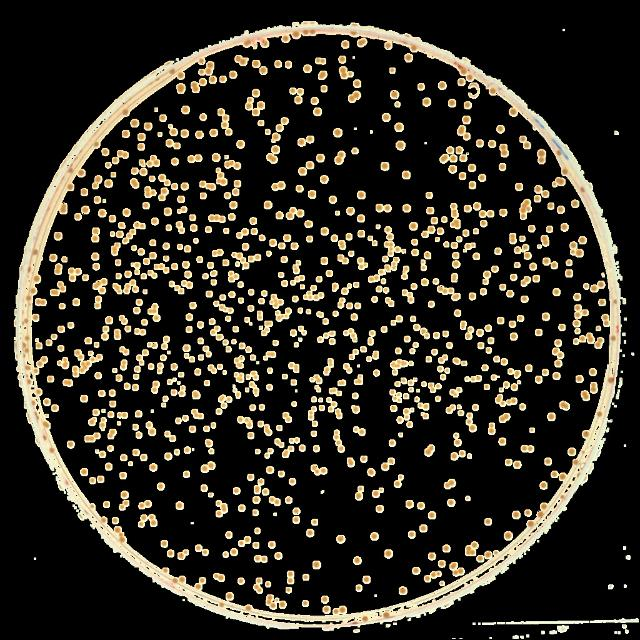colony: (424, 444, 436, 458), (348, 91, 362, 102), (146, 156, 160, 167), (235, 54, 247, 66), (339, 66, 348, 80), (190, 81, 200, 93), (266, 153, 278, 163), (318, 70, 328, 80), (398, 586, 408, 596), (595, 338, 605, 348), (446, 404, 456, 414), (394, 122, 404, 132), (216, 178, 228, 186), (60, 202, 68, 214), (112, 244, 120, 256), (35, 298, 47, 306), (264, 424, 272, 436), (177, 84, 186, 94), (333, 128, 342, 138), (130, 119, 140, 128), (560, 402, 570, 411), (500, 413, 510, 422), (508, 109, 518, 118), (581, 391, 589, 402), (316, 57, 326, 65), (118, 150, 128, 158), (130, 178, 138, 188), (272, 133, 280, 143), (53, 232, 63, 240), (55, 264, 63, 274), (63, 379, 73, 387), (85, 435, 95, 443), (306, 528, 314, 538), (292, 507, 302, 515), (336, 535, 346, 543), (590, 383, 598, 393), (588, 368, 598, 376), (354, 493, 364, 501), (367, 468, 375, 478), (515, 182, 523, 192), (391, 90, 399, 100), (396, 142, 406, 150), (278, 180, 286, 190), (192, 390, 200, 400), (114, 284, 122, 294), (341, 40, 349, 49), (358, 39, 367, 47), (224, 160, 233, 168), (89, 418, 97, 427), (586, 333, 594, 342), (439, 154, 448, 162), (402, 171, 411, 179), (452, 220, 461, 228), (188, 154, 195, 164), (206, 183, 216, 190), (459, 320, 466, 330), (542, 236, 548, 247), (304, 64, 312, 72), (338, 55, 346, 63), (209, 76, 217, 84), (198, 68, 206, 76), (295, 96, 303, 104), (314, 108, 322, 116), (252, 108, 260, 116), (257, 102, 265, 110), (199, 113, 207, 121), (182, 106, 190, 114), (170, 128, 178, 136), (181, 130, 189, 138), (166, 139, 174, 147), (144, 122, 152, 130), (138, 133, 146, 141), (122, 130, 130, 138), (237, 140, 245, 148), (212, 153, 220, 161), (171, 158, 179, 166), (102, 148, 110, 156), (105, 180, 113, 188), (272, 146, 280, 154), (307, 135, 315, 143), (298, 139, 306, 147), (181, 182, 189, 190), (180, 206, 188, 214), (190, 224, 198, 232), (164, 208, 172, 216), (142, 202, 150, 210), (123, 208, 131, 216), (116, 230, 124, 238), (99, 209, 107, 217), (80, 188, 88, 196), (82, 206, 90, 214), (74, 213, 82, 221), (78, 170, 86, 178), (91, 235, 99, 243), (92, 252, 100, 260), (72, 298, 80, 306), (32, 314, 40, 322), (92, 408, 100, 416), (148, 428, 156, 436), (80, 468, 88, 476), (150, 464, 158, 472), (184, 446, 192, 454), (165, 452, 173, 460), (157, 482, 165, 490), (176, 502, 184, 510), (138, 520, 146, 528), (200, 484, 208, 492), (238, 504, 246, 512), (178, 552, 186, 560), (160, 540, 168, 548), (230, 548, 238, 556), (254, 486, 262, 494), (260, 556, 268, 564), (226, 592, 234, 600), (313, 561, 321, 569), (274, 552, 282, 560), (292, 516, 300, 524), (363, 575, 371, 583), (354, 557, 362, 565), (370, 532, 378, 540), (384, 550, 392, 558), (412, 567, 420, 575), (428, 553, 436, 561), (442, 544, 450, 552), (450, 562, 458, 570), (458, 567, 466, 575), (424, 574, 432, 582), (484, 518, 492, 526), (504, 532, 512, 540), (512, 511, 520, 519), (540, 482, 548, 490), (568, 448, 576, 456), (582, 430, 590, 438), (544, 458, 552, 466), (514, 461, 522, 469), (547, 413, 555, 421), (553, 372, 561, 380), (514, 370, 522, 378), (454, 438, 462, 446), (469, 424, 477, 432), (417, 502, 425, 510), (406, 500, 414, 508), (372, 490, 380, 498), (388, 439, 396, 447), (278, 470, 286, 478), (267, 466, 275, 474), (200, 465, 208, 473), (208, 461, 216, 469), (205, 439, 213, 447), (553, 288, 561, 296), (579, 236, 587, 244), (506, 290, 514, 298), (510, 274, 518, 282), (524, 252, 532, 260), (522, 244, 530, 252), (514, 246, 522, 254), (561, 223, 569, 231), (548, 202, 556, 210), (541, 190, 549, 198), (556, 178, 564, 186), (478, 210, 486, 218), (474, 202, 482, 210), (523, 142, 531, 150), (501, 150, 509, 158), (488, 140, 496, 148), (476, 140, 484, 148), (478, 174, 486, 182), (469, 182, 477, 190), (468, 164, 476, 172), (449, 165, 457, 173), (460, 154, 468, 162), (456, 146, 464, 154), (447, 146, 455, 154), (464, 101, 472, 109), (449, 99, 457, 107), (382, 114, 390, 122), (381, 162, 389, 170), (317, 154, 325, 162), (321, 176, 329, 184), (308, 191, 316, 199), (358, 191, 366, 199), (384, 204, 392, 212), (376, 204, 384, 212), (403, 204, 411, 212), (352, 405, 360, 413), (450, 390, 458, 398), (484, 324, 492, 332), (476, 329, 484, 337), (453, 294, 461, 302), (432, 278, 440, 286), (452, 261, 460, 269), (354, 302, 362, 310), (224, 192, 232, 200), (264, 201, 272, 209), (276, 211, 284, 219), (286, 212, 294, 220), (330, 234, 338, 242), (384, 226, 392, 234), (410, 222, 418, 230), (50, 290, 60, 296), (68, 440, 74, 450), (348, 458, 354, 468), (510, 233, 516, 243), (496, 126, 506, 132), (121, 360, 127, 370), (293, 364, 299, 374), (372, 350, 378, 360), (354, 80, 361, 88), (252, 61, 260, 68), (199, 78, 207, 85), (276, 125, 284, 132), (195, 154, 202, 162), (95, 175, 102, 183), (177, 195, 185, 202), (95, 196, 102, 204), (92, 228, 100, 235), (49, 253, 57, 260), (85, 336, 92, 344), (120, 454, 128, 461), (233, 487, 240, 495), (195, 544, 202, 552), (253, 496, 260, 504), (218, 574, 225, 582), (324, 606, 331, 614), (419, 524, 426, 532), (449, 479, 456, 487), (444, 482, 451, 490), (381, 464, 389, 471), (499, 438, 506, 446), (450, 454, 458, 461), (248, 474, 255, 482), (190, 425, 197, 433), (484, 270, 491, 278), (469, 293, 476, 301), (500, 210, 508, 217), (464, 205, 472, 212), (335, 158, 343, 165), (299, 168, 307, 175), (296, 185, 304, 192), (329, 195, 337, 202), (347, 208, 355, 215), (185, 313, 192, 321), (242, 243, 250, 250), (454, 358, 461, 366), (424, 251, 431, 259), (66, 168, 74, 175), (42, 421, 49, 429), (204, 68, 213, 74), (100, 422, 106, 431), (222, 503, 228, 512), (160, 115, 167, 122), (98, 389, 105, 396), (499, 163, 506, 170), (275, 60, 281, 68), (285, 60, 291, 68), (260, 68, 268, 74), (230, 72, 238, 78), (206, 62, 214, 68), (311, 98, 319, 104), (281, 118, 289, 124), (252, 90, 260, 96), (222, 115, 230, 121), (210, 130, 218, 136), (196, 132, 204, 138), (235, 162, 241, 170), (112, 156, 118, 164), (140, 168, 146, 176), (164, 178, 170, 186), (200, 180, 206, 188), (200, 193, 208, 199), (172, 182, 178, 190), (144, 192, 152, 198), (150, 188, 156, 196), (158, 195, 166, 201), (178, 228, 186, 234), (152, 217, 158, 225), (118, 222, 126, 228), (110, 214, 116, 222), (68, 276, 76, 282), (82, 274, 88, 282), (34, 275, 40, 283), (30, 288, 38, 294), (102, 277, 108, 285), (94, 280, 100, 288), (36, 342, 42, 350), (42, 356, 48, 364), (58, 344, 64, 352), (62, 362, 70, 368), (36, 388, 42, 396), (44, 398, 50, 406), (52, 404, 58, 412), (80, 396, 88, 402), (135, 411, 143, 417), (108, 433, 116, 439), (106, 462, 112, 470), (140, 454, 148, 460), (120, 472, 126, 480), (98, 476, 104, 484), (90, 476, 96, 484), (164, 430, 170, 438), (174, 448, 180, 456), (122, 491, 128, 499), (144, 501, 152, 507), (150, 520, 158, 526), (140, 514, 148, 520), (113, 516, 119, 524), (168, 550, 174, 558), (245, 535, 251, 543), (262, 489, 270, 495), (268, 542, 276, 548), (254, 555, 260, 563), (162, 568, 170, 574), (178, 576, 186, 582), (194, 584, 202, 590), (238, 578, 246, 584), (280, 600, 286, 608), (312, 518, 318, 526), (340, 606, 346, 614), (356, 584, 362, 592), (439, 560, 445, 568), (476, 555, 484, 561), (486, 551, 492, 559), (524, 510, 532, 516), (526, 521, 534, 527), (408, 532, 416, 538), (428, 512, 436, 518), (448, 499, 454, 507), (388, 457, 396, 463), (560, 473, 566, 481), (528, 445, 534, 453), (520, 446, 528, 452), (576, 376, 584, 382), (496, 396, 504, 402), (536, 376, 542, 384), (542, 369, 550, 375), (556, 360, 562, 368), (552, 348, 560, 354), (554, 340, 562, 346), (574, 312, 582, 318), (573, 320, 581, 326), (526, 364, 532, 372), (491, 374, 497, 382), (488, 429, 496, 435), (460, 450, 466, 458), (473, 404, 479, 412), (376, 506, 384, 512), (359, 429, 365, 437), (339, 445, 345, 453), (275, 498, 281, 506), (290, 478, 296, 486), (283, 450, 289, 458), (275, 438, 281, 446), (248, 432, 254, 440), (598, 300, 606, 306), (598, 280, 604, 288), (590, 286, 598, 292), (573, 294, 581, 300), (576, 250, 584, 256), (552, 261, 558, 269), (542, 314, 550, 320), (510, 334, 518, 340), (494, 248, 502, 254), (547, 226, 553, 234), (572, 200, 578, 208), (534, 196, 542, 202), (535, 185, 541, 193), (520, 214, 528, 220), (488, 210, 494, 218), (480, 221, 488, 227), (538, 150, 546, 156), (520, 136, 528, 142), (499, 144, 507, 150), (450, 156, 458, 162), (458, 126, 464, 134), (462, 116, 470, 122), (423, 100, 431, 106), (466, 74, 474, 80), (458, 79, 466, 85), (438, 82, 446, 88), (406, 54, 412, 62), (282, 36, 290, 42), (292, 32, 300, 38), (338, 151, 346, 157), (306, 162, 314, 168), (272, 183, 278, 191), (358, 214, 364, 222), (426, 208, 434, 214), (450, 203, 458, 209), (452, 210, 458, 218), (106, 316, 112, 324), (136, 299, 144, 305), (154, 314, 160, 322), (194, 369, 202, 375), (218, 396, 226, 402), (336, 410, 342, 418), (329, 388, 337, 394), (338, 380, 346, 386), (190, 302, 196, 310), (228, 292, 236, 298), (182, 262, 190, 268), (222, 260, 230, 266), (208, 214, 214, 222), (243, 228, 249, 236), (237, 232, 243, 240), (216, 334, 224, 340), (239, 342, 245, 350), (236, 362, 244, 368), (288, 362, 294, 370), (391, 362, 399, 368), (394, 348, 402, 354), (466, 332, 472, 340), (414, 324, 420, 332), (420, 328, 428, 334), (428, 302, 436, 308), (442, 288, 448, 296), (452, 274, 458, 282), (422, 278, 428, 286), (403, 266, 409, 274), (452, 252, 460, 258), (472, 253, 480, 259), (350, 314, 358, 320), (333, 284, 339, 292), (368, 276, 374, 284), (374, 274, 380, 282), (234, 181, 242, 187), (229, 202, 237, 208), (305, 221, 313, 227), (280, 257, 288, 263), (322, 227, 328, 235), (320, 258, 328, 264), (339, 241, 345, 249), (386, 234, 394, 240), (422, 230, 428, 238), (428, 226, 434, 234), (349, 30, 357, 36), (261, 40, 269, 46), (220, 76, 227, 82), (297, 88, 303, 95), (245, 104, 252, 110), (218, 108, 224, 115), (225, 129, 232, 135), (173, 143, 180, 149), (139, 160, 145, 167), (105, 162, 112, 168), (132, 168, 138, 175), (159, 173, 165, 180), (218, 172, 225, 178), (162, 188, 168, 195), (68, 183, 74, 190), (59, 303, 66, 309), (95, 296, 102, 302), (95, 303, 102, 309), (59, 326, 66, 332), (46, 339, 52, 346), (95, 372, 102, 378), (109, 389, 115, 396), (133, 424, 139, 431), (170, 436, 177, 442), (115, 527, 122, 533), (216, 509, 222, 516), (225, 532, 232, 538), (511, 384, 517, 391), (559, 324, 565, 331), (536, 329, 542, 336), (529, 225, 535, 232), (558, 205, 564, 212), (459, 173, 466, 179), (385, 42, 391, 49), (132, 384, 138, 391), (183, 345, 190, 351), (205, 291, 212, 297), (229, 213, 235, 220), (250, 218, 256, 225), (270, 240, 276, 247), (423, 404, 429, 411), (404, 336, 411, 342), (233, 190, 239, 197), (298, 210, 304, 217), (437, 228, 443, 235), (148, 310, 158, 314), (266, 352, 276, 356), (34, 410, 38, 420), (321, 86, 327, 92), (290, 88, 296, 94), (222, 122, 228, 128), (138, 144, 144, 150), (348, 71, 354, 77), (258, 120, 264, 126), (144, 185, 150, 191), (190, 215, 196, 221), (176, 221, 182, 227), (166, 225, 172, 231), (140, 223, 146, 229), (134, 222, 140, 228), (123, 238, 129, 244), (62, 256, 68, 262), (68, 268, 74, 274), (76, 268, 82, 274), (93, 264, 99, 270), (115, 260, 121, 266), (60, 286, 66, 292), (100, 288, 106, 294), (68, 322, 74, 328), (51, 334, 57, 340), (37, 362, 43, 368), (48, 376, 54, 382), (88, 350, 94, 356), (74, 349, 80, 355), (78, 354, 84, 360), (72, 366, 78, 372), (73, 371, 79, 377), (94, 342, 100, 348), (110, 401, 116, 407), (95, 432, 101, 438), (108, 411, 114, 417), (101, 416, 107, 422), (122, 412, 128, 418), (136, 432, 142, 438), (146, 421, 152, 427), (100, 452, 106, 458), (107, 445, 113, 451), (134, 449, 140, 455), (183, 471, 189, 477), (104, 502, 110, 508), (119, 504, 125, 510), (139, 503, 145, 509), (149, 514, 155, 520), (120, 536, 126, 542), (102, 516, 108, 522), (202, 550, 208, 556), (238, 540, 244, 546), (255, 528, 261, 534), (253, 510, 259, 516), (258, 478, 264, 484), (253, 542, 259, 548), (199, 578, 205, 584), (270, 602, 276, 608), (286, 587, 292, 593), (288, 571, 294, 577), (288, 577, 294, 583), (303, 574, 309, 580), (302, 600, 308, 606), (322, 596, 328, 602), (430, 572, 436, 578), (472, 542, 478, 548), (470, 550, 476, 556), (538, 511, 544, 517), (541, 503, 547, 509), (552, 471, 558, 477), (506, 459, 512, 465), (520, 403, 526, 409), (512, 398, 518, 404), (558, 352, 564, 358), (573, 338, 579, 344), (580, 336, 586, 342), (604, 320, 610, 326), (602, 314, 608, 320), (583, 310, 589, 316), (575, 305, 581, 311), (508, 368, 514, 374), (484, 384, 490, 390), (458, 410, 464, 416), (358, 486, 364, 492), (361, 456, 367, 462), (398, 432, 404, 438), (336, 440, 342, 446), (333, 435, 339, 441), (286, 497, 292, 503), (321, 468, 327, 474), (314, 469, 320, 475), (313, 446, 319, 452), (311, 431, 317, 437), (299, 445, 305, 451), (294, 437, 300, 443), (288, 438, 294, 444), (268, 448, 274, 454), (210, 422, 216, 428), (204, 426, 210, 432), (182, 415, 188, 421), (175, 417, 181, 423), (198, 414, 204, 420), (584, 284, 590, 290), (566, 270, 572, 276), (566, 260, 572, 266), (570, 242, 576, 248), (544, 258, 550, 264), (534, 276, 540, 282), (518, 315, 524, 321), (510, 322, 516, 328), (498, 318, 504, 324), (522, 296, 528, 302), (525, 276, 531, 282), (530, 264, 536, 270), (514, 262, 520, 268), (500, 284, 506, 290), (492, 266, 498, 272), (481, 289, 487, 295), (520, 208, 526, 214), (463, 230, 469, 236), (562, 169, 568, 175), (538, 158, 544, 164), (464, 134, 470, 140), (490, 88, 496, 94), (419, 83, 425, 89), (394, 102, 400, 108), (302, 30, 308, 36), (310, 30, 316, 36), (245, 40, 251, 46), (178, 73, 184, 79), (199, 58, 205, 64), (352, 148, 358, 154), (426, 192, 432, 198), (432, 217, 438, 223), (442, 217, 448, 223), (102, 334, 108, 340), (103, 326, 109, 332), (122, 318, 128, 324), (125, 326, 131, 332), (123, 350, 129, 356), (140, 329, 146, 335), (142, 319, 148, 325), (134, 307, 140, 313), (163, 336, 169, 342), (162, 343, 168, 349), (143, 350, 149, 356), (136, 354, 142, 360), (158, 362, 164, 368), (171, 364, 177, 370), (116, 375, 122, 381), (124, 383, 130, 389), (152, 387, 158, 393), (162, 396, 168, 402), (172, 390, 178, 396), (204, 380, 210, 386), (189, 356, 195, 362), (198, 354, 204, 360), (198, 338, 204, 344), (259, 404, 265, 410), (245, 374, 251, 380), (254, 388, 258, 397), (266, 384, 272, 390), (374, 370, 380, 376), (130, 280, 136, 286), (123, 288, 129, 294), (133, 286, 139, 292), (134, 262, 140, 268), (144, 258, 150, 264), (186, 327, 192, 333), (197, 322, 203, 328), (209, 319, 215, 325), (210, 330, 216, 336), (228, 308, 234, 314), (220, 294, 226, 300), (238, 298, 244, 304), (248, 305, 254, 311), (248, 289, 254, 295), (187, 282, 193, 288), (185, 272, 191, 278), (172, 264, 178, 270), (150, 252, 156, 258), (139, 249, 145, 255), (150, 240, 156, 246), (184, 246, 190, 252), (197, 257, 203, 263), (207, 262, 213, 268), (211, 270, 217, 276), (228, 276, 234, 282), (238, 282, 244, 288), (206, 227, 212, 233), (220, 217, 226, 223), (224, 228, 230, 234), (252, 228, 258, 234), (248, 256, 254, 262), (255, 254, 261, 260), (222, 340, 228, 346), (226, 346, 232, 352), (246, 347, 252, 353), (238, 355, 244, 361), (267, 368, 273, 374), (273, 340, 279, 346), (282, 374, 288, 380), (291, 380, 297, 386), (290, 330, 296, 336), (324, 368, 330, 374), (360, 346, 366, 352), (366, 356, 372, 362), (369, 330, 375, 336), (351, 332, 357, 338), (397, 417, 403, 423), (404, 408, 410, 414), (391, 405, 397, 411), (396, 392, 402, 398), (392, 396, 398, 402), (408, 380, 414, 386), (430, 387, 436, 393), (402, 361, 408, 367), (447, 342, 453, 348), (438, 357, 444, 363), (440, 374, 446, 380), (464, 376, 470, 382), (470, 376, 476, 382), (476, 376, 482, 382), (482, 365, 488, 371), (493, 356, 499, 362), (501, 359, 507, 365), (488, 338, 494, 344), (486, 348, 492, 354), (478, 342, 484, 348), (468, 327, 474, 333), (381, 326, 387, 332), (396, 316, 402, 322), (410, 316, 416, 322), (424, 333, 430, 339), (434, 332, 440, 338), (455, 310, 461, 316), (448, 288, 454, 294), (438, 286, 444, 292), (411, 284, 417, 290), (408, 297, 414, 303), (412, 250, 418, 256), (258, 298, 264, 304), (292, 296, 298, 302), (278, 272, 284, 278), (281, 281, 287, 287), (317, 312, 323, 318), (338, 302, 344, 308), (346, 303, 352, 309), (342, 288, 348, 294), (346, 282, 352, 288), (353, 282, 359, 288), (372, 297, 378, 303), (376, 286, 382, 292), (379, 269, 385, 275), (316, 276, 322, 282), (290, 208, 296, 214), (284, 235, 290, 241), (279, 243, 285, 249), (292, 243, 298, 249), (307, 236, 313, 242), (294, 268, 300, 274), (326, 270, 332, 276), (348, 251, 354, 257), (343, 258, 349, 264), (346, 234, 352, 240), (358, 231, 364, 237), (372, 240, 378, 246), (358, 257, 364, 263), (451, 242, 457, 248), (32, 249, 38, 255), (26, 296, 32, 302), (24, 336, 30, 342), (42, 434, 48, 440), (362, 616, 368, 622), (383, 612, 389, 618), (558, 494, 564, 500), (607, 377, 613, 383), (610, 335, 616, 341), (96, 354, 104, 358), (109, 429, 117, 433), (454, 569, 458, 577), (394, 482, 402, 486), (507, 398, 511, 406), (504, 380, 508, 388), (152, 382, 160, 386), (178, 392, 186, 396), (236, 378, 244, 382), (355, 380, 363, 384), (215, 214, 219, 222), (265, 322, 273, 326), (316, 338, 324, 342), (386, 264, 390, 272), (168, 70, 176, 74), (454, 434, 461, 438), (115, 335, 122, 339), (247, 98, 253, 102), (168, 124, 174, 128), (112, 172, 116, 178), (92, 184, 98, 188), (149, 176, 155, 180), (266, 129, 270, 135), (177, 208, 181, 214), (127, 234, 133, 238), (110, 231, 114, 237), (34, 368, 38, 374), (57, 360, 61, 366), (62, 357, 68, 361), (88, 351, 94, 355), (90, 358, 96, 362), (86, 360, 90, 366), (117, 412, 121, 418), (116, 422, 122, 426), (128, 462, 134, 466), (118, 532, 124, 536), (208, 493, 214, 497), (216, 500, 220, 506), (224, 552, 228, 558), (268, 498, 274, 502), (173, 577, 177, 583), (214, 573, 218, 579), (256, 578, 262, 582), (266, 582, 270, 588), (258, 588, 262, 594), (254, 584, 258, 590), (267, 595, 273, 599), (266, 600, 270, 606), (246, 606, 252, 610), (334, 609, 338, 615), (437, 570, 441, 576), (440, 580, 444, 586), (465, 546, 471, 550), (494, 550, 500, 554), (466, 495, 470, 501), (400, 474, 404, 480), (574, 459, 578, 465), (529, 428, 535, 432), (500, 402, 506, 406), (490, 422, 494, 428), (467, 414, 473, 418), (466, 420, 472, 424), (354, 426, 358, 432), (334, 430, 340, 434), (312, 464, 316, 470), (280, 442, 284, 448), (265, 454, 271, 458), (270, 516, 276, 520), (216, 410, 222, 414), (258, 421, 262, 427), (276, 426, 282, 430), (286, 418, 292, 422), (237, 418, 243, 422), (248, 422, 252, 428), (570, 249, 574, 255), (521, 280, 525, 286), (484, 279, 488, 285), (552, 182, 556, 188), (524, 200, 530, 204), (522, 203, 528, 207), (527, 206, 531, 212), (474, 228, 478, 234), (458, 236, 462, 242), (411, 46, 417, 50), (390, 68, 396, 72), (114, 330, 120, 334), (120, 346, 124, 352), (136, 329, 140, 335), (152, 304, 158, 308), (161, 356, 167, 360), (153, 343, 157, 349), (150, 363, 154, 369), (178, 372, 184, 376), (136, 366, 140, 372), (180, 386, 186, 390), (203, 346, 209, 350), (206, 352, 212, 356), (218, 364, 222, 370), (208, 365, 214, 369), (226, 398, 232, 402), (221, 404, 227, 408), (250, 406, 256, 410), (236, 392, 240, 398), (312, 422, 318, 426), (308, 416, 314, 420), (331, 402, 337, 406), (328, 408, 334, 412), (352, 394, 358, 398), (116, 274, 122, 278), (170, 281, 174, 287), (179, 288, 183, 294), (215, 326, 221, 330), (214, 300, 218, 306), (220, 304, 224, 310), (226, 316, 230, 322), (234, 326, 238, 332), (244, 318, 250, 322), (182, 280, 186, 286), (160, 264, 164, 270), (163, 244, 169, 248), (178, 244, 182, 250), (194, 238, 198, 244), (202, 274, 208, 278), (213, 250, 217, 256), (218, 250, 222, 256), (228, 272, 234, 276), (234, 274, 240, 278), (232, 252, 236, 258), (236, 253, 242, 257), (244, 263, 248, 269), (231, 340, 237, 344), (250, 356, 256, 360), (234, 358, 240, 362), (262, 330, 266, 336), (257, 316, 263, 320), (299, 326, 303, 332), (318, 378, 322, 384), (328, 363, 334, 367), (350, 354, 354, 360), (368, 338, 372, 344), (349, 328, 353, 334), (352, 338, 358, 342), (330, 338, 334, 344), (407, 422, 413, 426), (404, 415, 410, 419), (404, 394, 410, 398), (424, 414, 428, 420), (416, 396, 420, 402), (390, 390, 396, 394), (436, 396, 440, 402), (408, 388, 414, 392), (402, 378, 406, 384), (435, 384, 441, 388), (392, 370, 398, 374), (408, 362, 414, 366), (410, 348, 414, 354), (414, 342, 418, 348), (426, 358, 432, 362), (432, 350, 438, 354), (442, 355, 448, 359), (438, 366, 442, 372), (446, 368, 450, 374), (462, 360, 466, 366), (391, 320, 395, 326), (444, 331, 448, 337), (402, 290, 406, 296), (390, 300, 394, 306), (384, 288, 390, 292), (382, 278, 386, 284), (402, 275, 408, 279), (422, 265, 426, 271), (262, 290, 266, 296), (279, 299, 283, 305), (274, 302, 278, 308), (277, 316, 281, 322), (286, 308, 290, 314), (298, 308, 302, 314), (306, 308, 310, 314), (318, 294, 324, 298), (324, 319, 328, 325), (339, 298, 345, 302), (392, 266, 396, 272), (296, 261, 302, 265), (358, 265, 364, 269), (384, 256, 388, 262), (388, 252, 394, 256), (395, 248, 401, 252), (412, 240, 418, 244), (436, 236, 440, 242), (444, 242, 448, 248), (466, 244, 470, 250), (472, 242, 476, 248), (95, 142, 99, 148), (27, 266, 31, 272), (24, 318, 28, 324), (22, 342, 26, 348), (26, 378, 30, 384), (31, 399, 35, 405), (50, 448, 54, 454), (219, 602, 223, 608), (580, 186, 584, 192), (557, 150, 561, 156), (466, 550, 469, 556), (158, 132, 162, 136), (216, 168, 220, 172), (131, 230, 135, 234), (102, 199, 106, 203), (132, 246, 136, 250), (154, 108, 158, 112), (58, 282, 62, 286), (81, 362, 85, 366), (84, 365, 88, 369), (80, 368, 84, 372), (124, 502, 128, 506), (184, 550, 188, 554), (275, 598, 279, 602), (499, 388, 503, 392), (596, 326, 600, 330), (468, 454, 472, 458), (458, 405, 462, 409), (380, 488, 384, 492), (290, 446, 294, 450), (256, 449, 260, 453), (210, 450, 214, 454), (284, 413, 288, 417), (245, 418, 249, 422), (520, 237, 524, 241), (461, 70, 465, 74), (124, 110, 128, 114), (194, 414, 198, 418), (120, 316, 124, 320), (113, 369, 117, 373), (148, 342, 152, 346), (140, 360, 144, 364), (158, 369, 162, 373), (134, 374, 138, 378), (162, 403, 166, 407), (184, 354, 188, 358), (212, 369, 216, 373), (168, 380, 172, 384), (233, 388, 237, 392), (234, 373, 238, 377), (239, 373, 243, 377), (254, 376, 258, 380), (249, 382, 253, 386), (292, 402, 296, 406), (312, 407, 316, 411), (309, 411, 313, 415), (320, 406, 324, 410), (312, 398, 316, 402), (319, 398, 323, 402), (327, 398, 331, 402), (317, 388, 321, 392), (337, 391, 341, 395), (126, 272, 130, 276), (126, 284, 130, 288), (143, 290, 147, 294), (142, 274, 146, 278), (135, 270, 139, 274), (148, 271, 152, 275), (153, 274, 157, 278), (175, 286, 179, 290), (165, 268, 169, 272), (154, 264, 158, 268), (164, 256, 168, 260), (212, 280, 216, 284), (242, 258, 246, 262), (235, 262, 239, 266), (260, 236, 264, 240), (267, 252, 271, 256), (264, 356, 268, 360), (259, 326, 263, 330), (265, 328, 269, 332), (298, 338, 302, 342), (294, 342, 298, 346), (302, 331, 306, 335), (310, 377, 314, 381), (344, 364, 348, 368), (348, 368, 352, 372), (354, 350, 358, 354), (344, 331, 348, 335), (330, 332, 334, 336), (324, 334, 328, 338), (418, 404, 422, 408), (398, 399, 402, 403), (396, 382, 400, 386), (413, 377, 417, 381), (422, 382, 426, 386), (429, 383, 433, 387), (458, 388, 462, 392), (408, 293, 412, 297), (385, 298, 389, 302), (421, 260, 425, 264), (271, 294, 275, 298), (274, 298, 278, 302), (276, 311, 280, 315), (285, 315, 289, 319), (291, 281, 295, 285), (295, 277, 299, 281), (300, 276, 304, 280), (301, 285, 305, 289), (304, 295, 308, 299), (312, 286, 316, 290), (314, 296, 318, 300), (334, 312, 338, 316), (308, 296, 312, 300), (392, 262, 396, 266), (394, 258, 398, 262), (336, 211, 340, 215), (293, 265, 297, 269), (338, 255, 342, 259), (335, 211, 339, 215), (368, 237, 372, 241), (376, 225, 380, 229), (364, 263, 368, 267), (402, 249, 406, 253), (385, 242, 389, 246), (390, 242, 394, 246), (91, 504, 95, 508), (22, 354, 26, 358), (26, 366, 30, 370), (597, 412, 601, 416), (613, 299, 617, 303), (192, 410, 198, 412), (538, 245, 542, 248), (251, 372, 257, 374), (225, 307, 228, 311), (411, 408, 414, 412), (416, 388, 419, 392), (306, 292, 312, 294), (226, 155, 228, 159), (36, 338, 38, 342), (102, 410, 106, 412), (576, 330, 580, 332), (224, 370, 226, 374), (174, 378, 176, 382), (246, 388, 248, 392), (359, 376, 363, 378), (250, 322, 252, 326), (258, 312, 262, 314), (314, 376, 318, 378), (328, 360, 332, 362), (270, 300, 272, 304), (282, 314, 284, 318), (389, 248, 393, 250), (26, 373, 28, 377), (95, 450, 98, 452), (518, 381, 520, 384), (168, 352, 170, 354), (178, 382, 180, 384), (254, 386, 256, 388), (316, 386, 318, 388), (132, 264, 134, 266), (421, 413, 423, 415), (398, 360, 400, 362), (464, 249, 466, 251), (26, 350, 28, 352)
